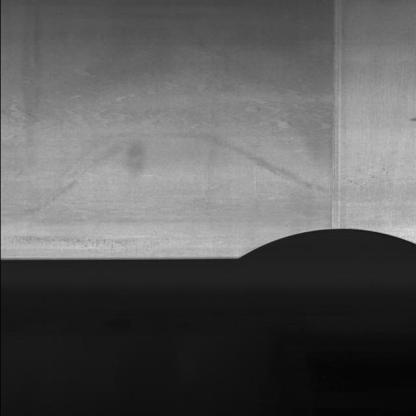crescent_gap: (231, 218, 416, 275)
welding_line: (319, 0, 343, 234)
